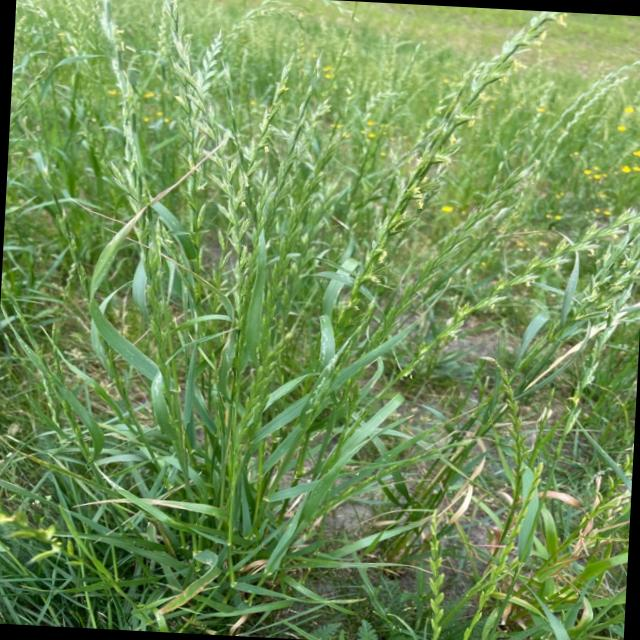Lolium: (0, 0, 640, 640), (294, 7, 548, 393), (430, 46, 630, 320), (160, 23, 288, 396), (398, 488, 477, 640)
